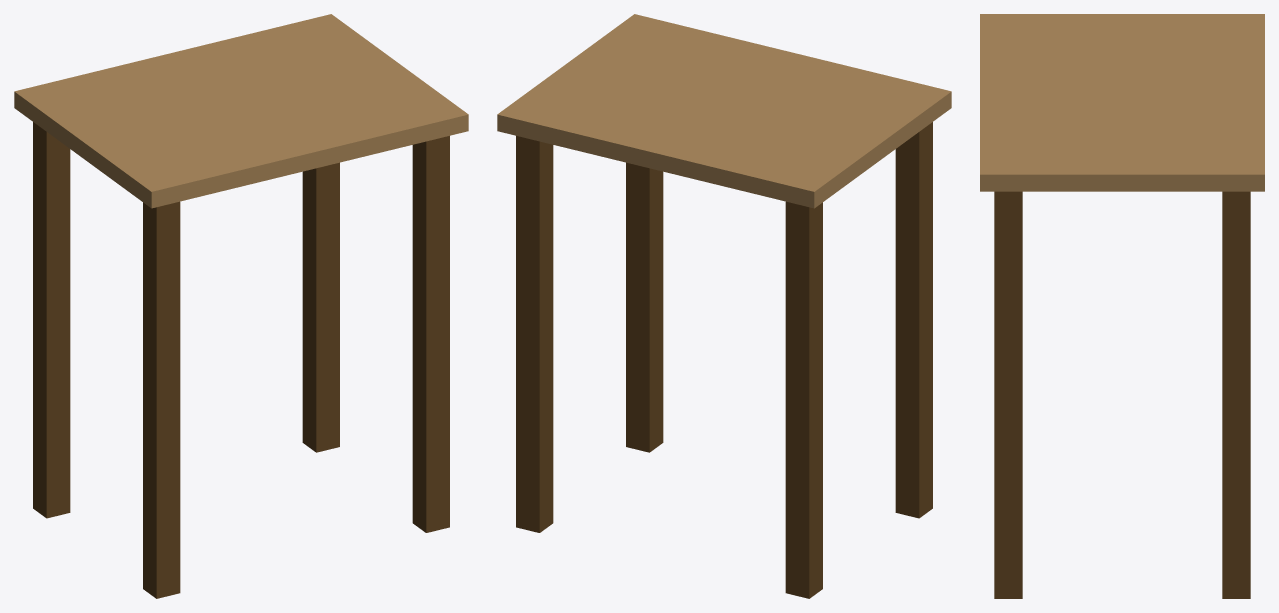
The model's file is desk.glb.
3 renders of one model, left to right at view 1: azimuth 30°, elevation 25°; view 2: azimuth 150°, elevation 25°; view 3: azimuth 270°, elevation 25°, orthographic. The views are drawn at different scales.
Visible parts, largest first — view 1: desk; view 2: desk; view 3: desk.
Part boxes in pixels (x1,y1,x2,y2): desk: [14, 14, 468, 598]; desk: [497, 14, 951, 598]; desk: [980, 14, 1264, 598].
Size of the model in its own units: 0.6096 by 0.762 by 0.4572.
